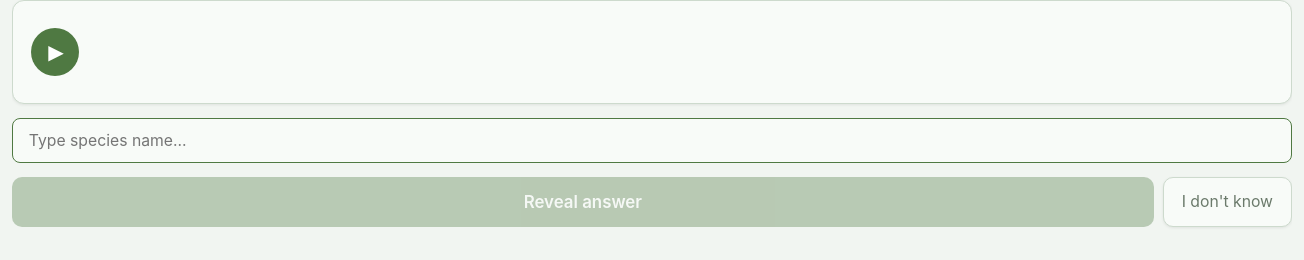
Scenario: QuizCard › Reveal button is enabled after a species is selected from the typeahead
Type "song" into the dropdown at (652, 140), box [12,118,1292,163]
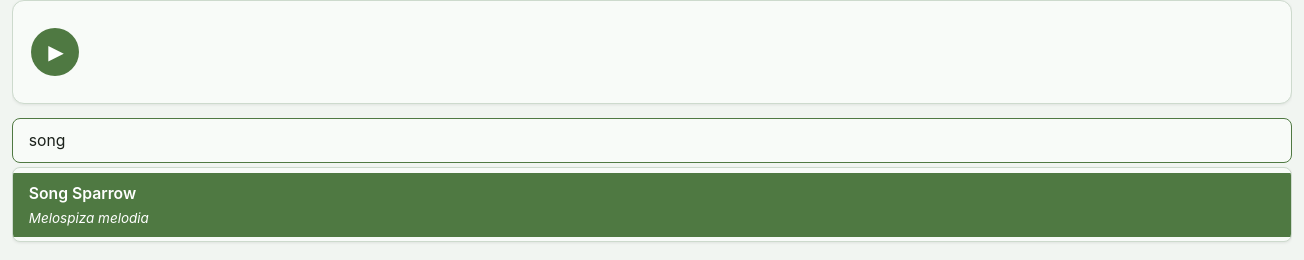
Press the mouse on the option "Song Sparrow Melospiza melodia" at (82, 193), box [13,173,1291,237]
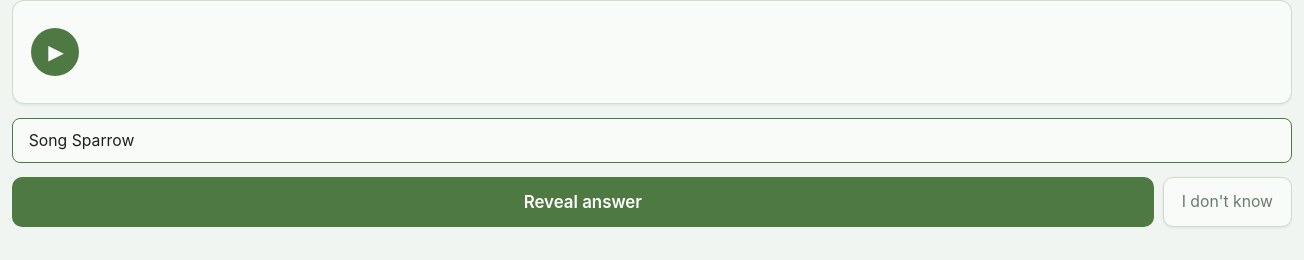
Result: the button "Reveal answer" is enabled at [12,177,1154,227]
